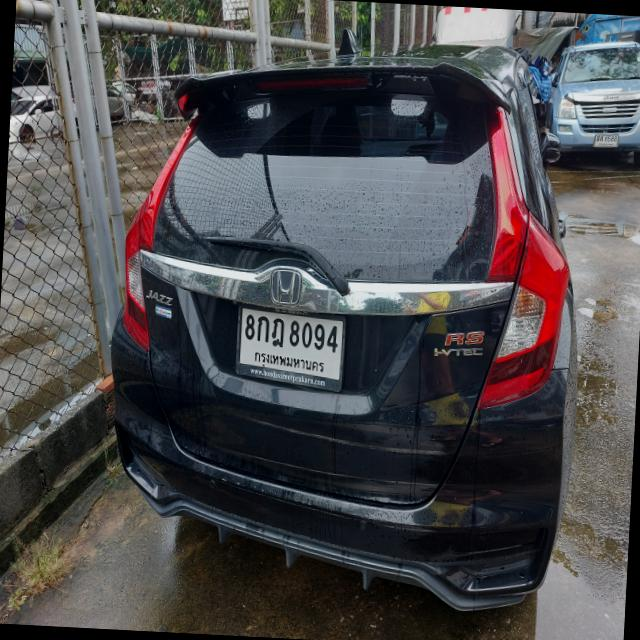license_plate: (234, 302, 348, 394), (594, 132, 621, 150)
